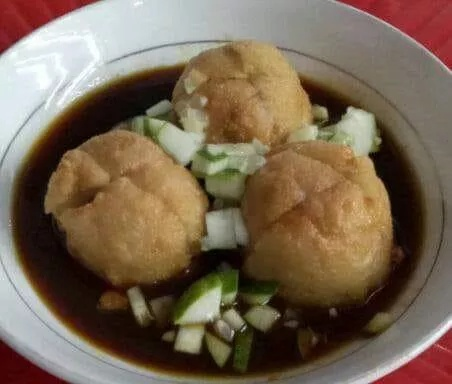pempek: (44, 38, 398, 304)
